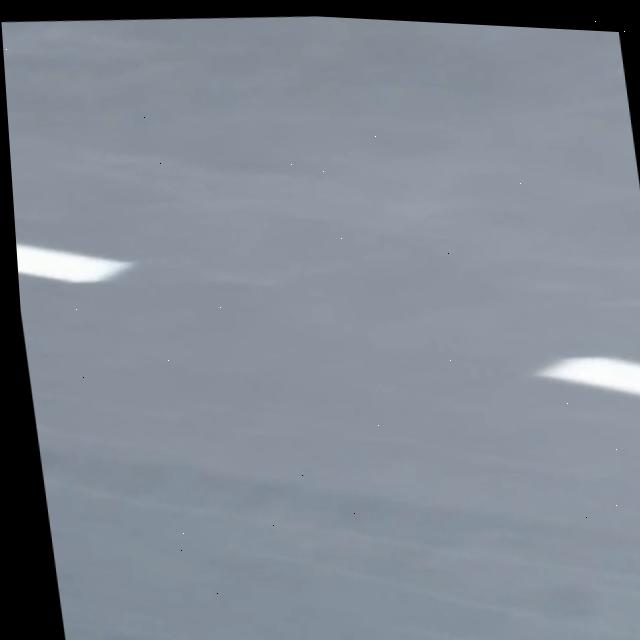center: (16, 244, 133, 283), (534, 357, 640, 397)
